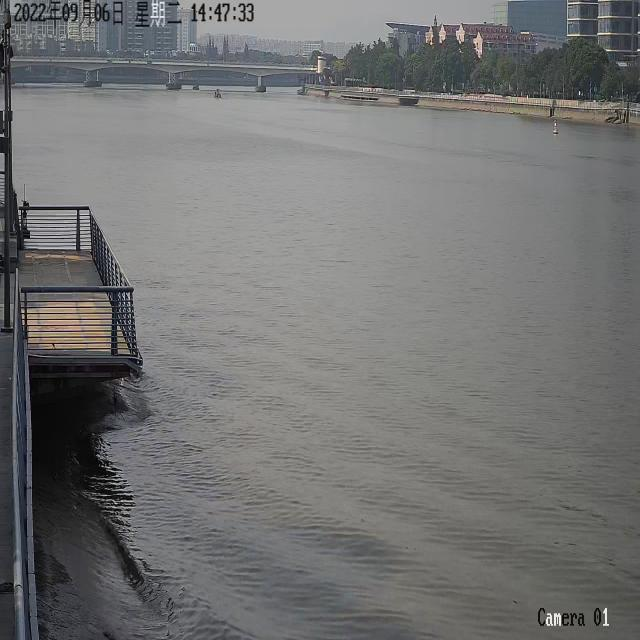ship: (213, 88, 221, 98), (192, 83, 199, 89)
